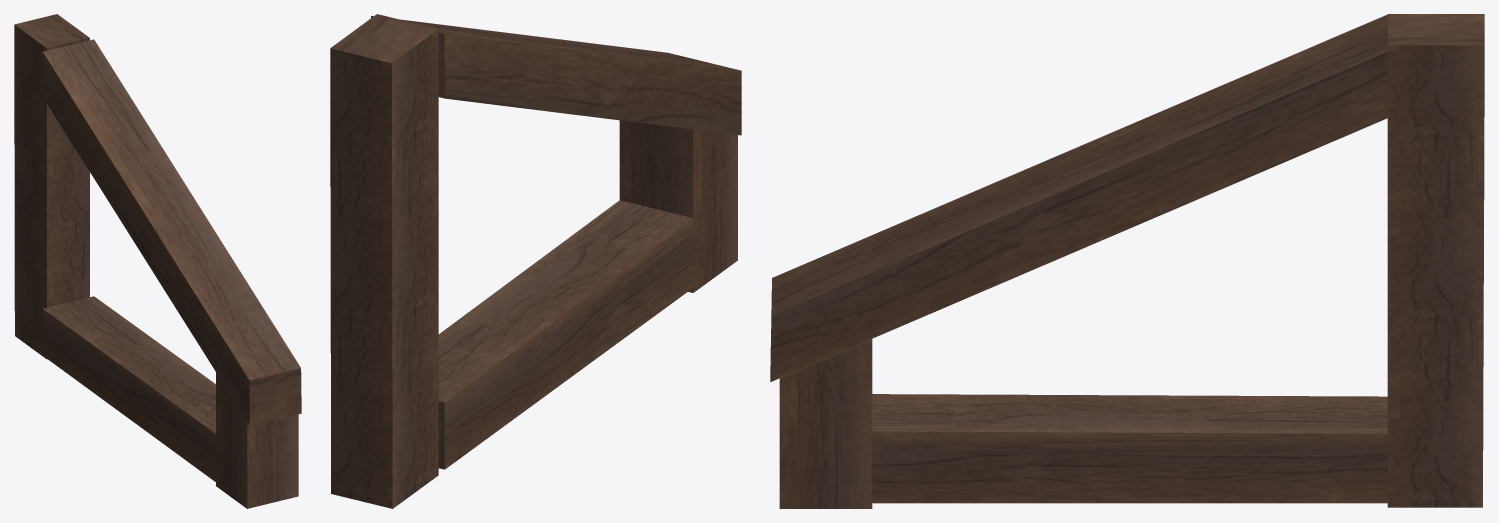
The model's file is yane_frame_1t_0f_1.fbx.
The picture shows the model from 3 angles, left to right: view 1: azimuth 30°, elevation 25°; view 2: azimuth 150°, elevation 25°; view 3: azimuth 270°, elevation 25°; orthographic projection. The views are drawn at different scales.
Parts seen in each view (by area): view 1: yane_frame_1t_0f_1; view 2: yane_frame_1t_0f_1; view 3: yane_frame_1t_0f_1.
Part boxes in pixels (bbox=[...]): yane_frame_1t_0f_1: bbox=[14, 14, 301, 508]; yane_frame_1t_0f_1: bbox=[330, 14, 741, 508]; yane_frame_1t_0f_1: bbox=[770, 14, 1484, 508].
Size of the model in its own units: 18.18 by 105 by 147.
